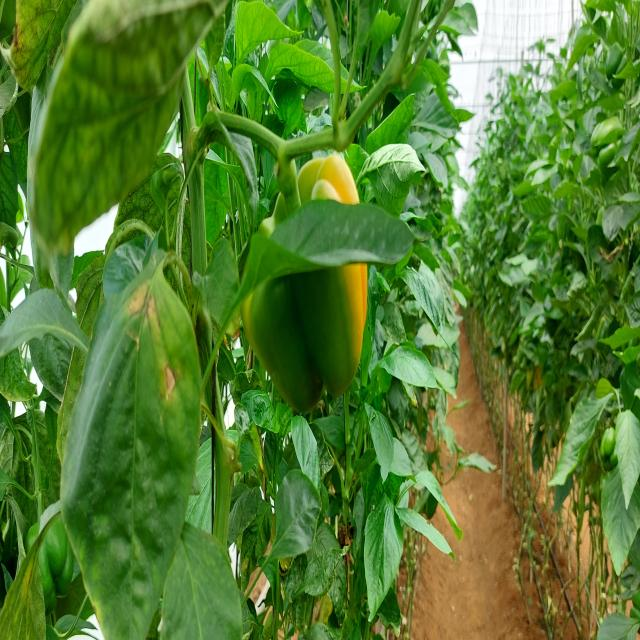GreenishYellow--Can-be-Harvested: (227, 138, 383, 408)
